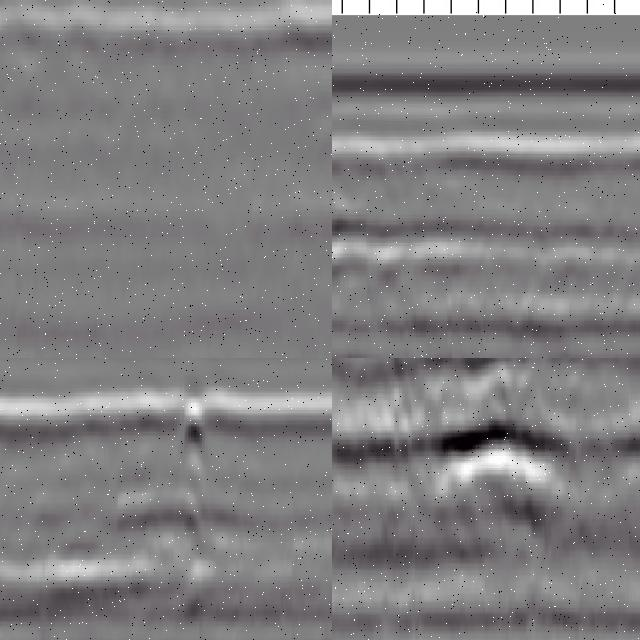crack: (179, 359, 203, 640)
loose: (333, 359, 582, 511), (333, 214, 451, 301)
